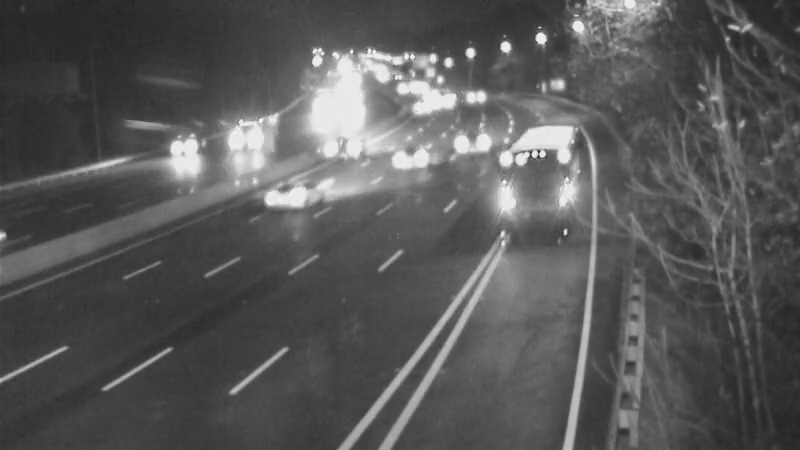vehicle: (367, 114, 447, 194), (260, 150, 340, 230), (462, 167, 542, 247), (453, 67, 503, 117), (399, 79, 449, 129), (450, 101, 500, 151), (309, 124, 359, 174), (162, 123, 212, 173), (218, 113, 268, 163)
